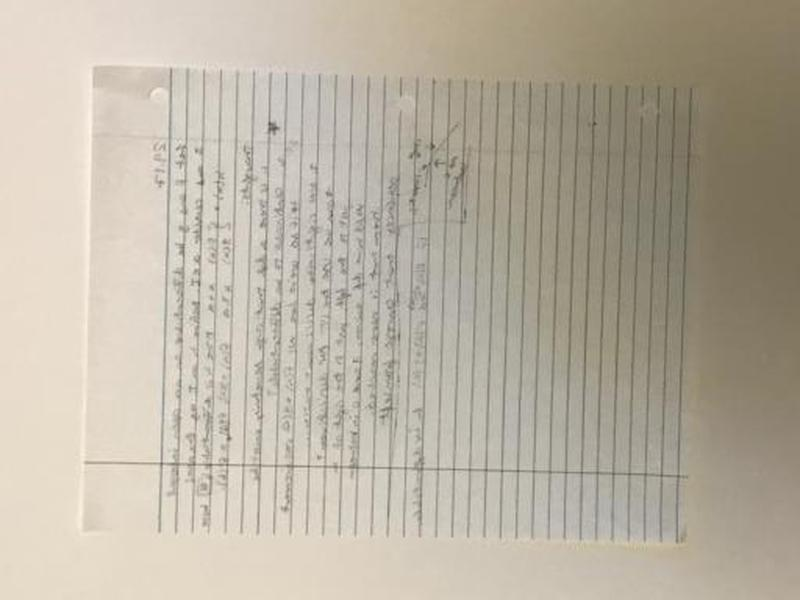paper: (81, 56, 704, 553)
